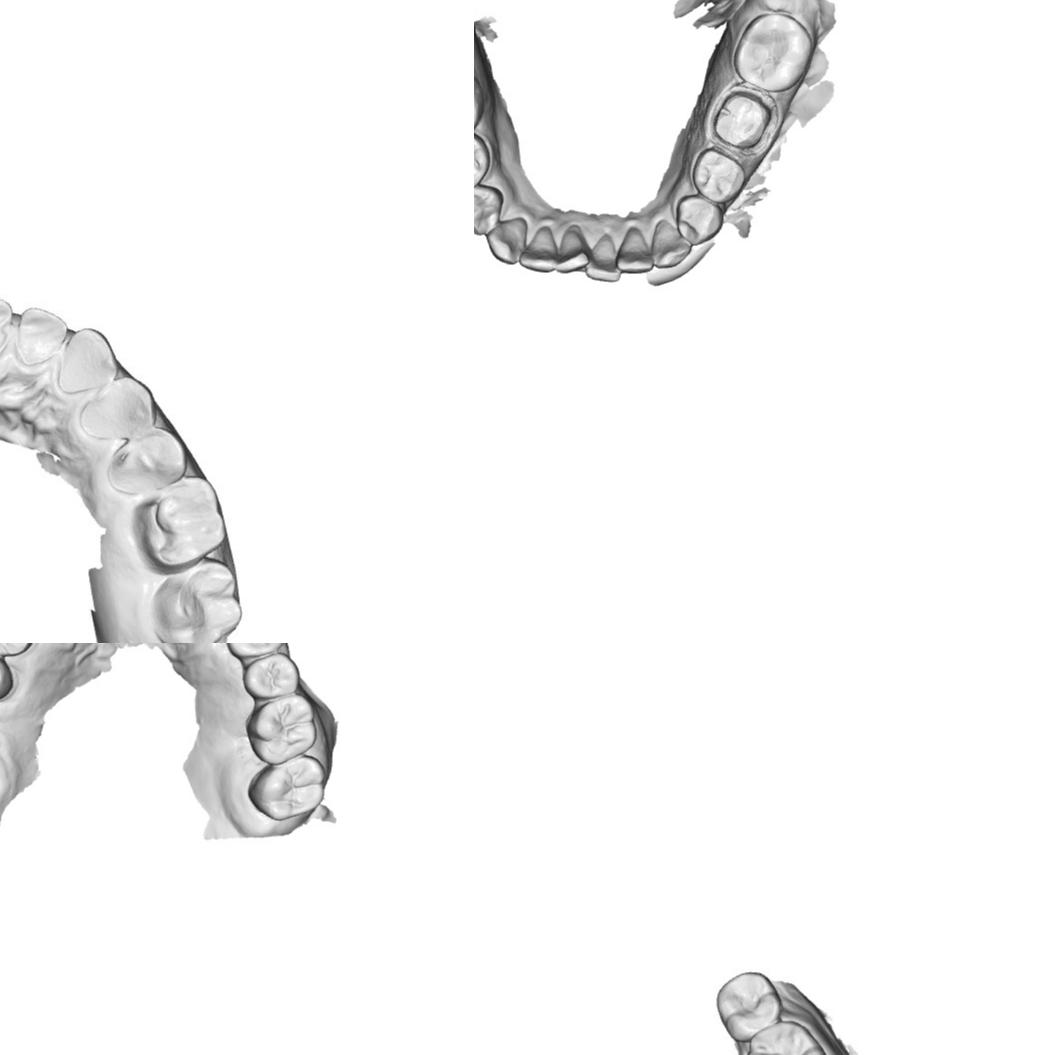canine: (62, 327, 116, 391), (482, 215, 532, 266), (648, 218, 694, 270)
crown: (707, 86, 776, 154)
incisor: (16, 305, 67, 370), (517, 222, 561, 274), (549, 222, 593, 273), (584, 232, 623, 284), (616, 222, 654, 274), (0, 296, 20, 370)
molar: (730, 10, 816, 94), (165, 562, 238, 643), (155, 482, 222, 570), (247, 754, 329, 823), (243, 696, 318, 766), (720, 971, 781, 1041), (742, 1019, 833, 1055)
premolar: (110, 430, 187, 498), (85, 379, 152, 435), (691, 147, 747, 205), (242, 651, 302, 702), (674, 190, 725, 244), (474, 183, 505, 235), (474, 132, 493, 191), (224, 643, 286, 660), (0, 643, 16, 701)
